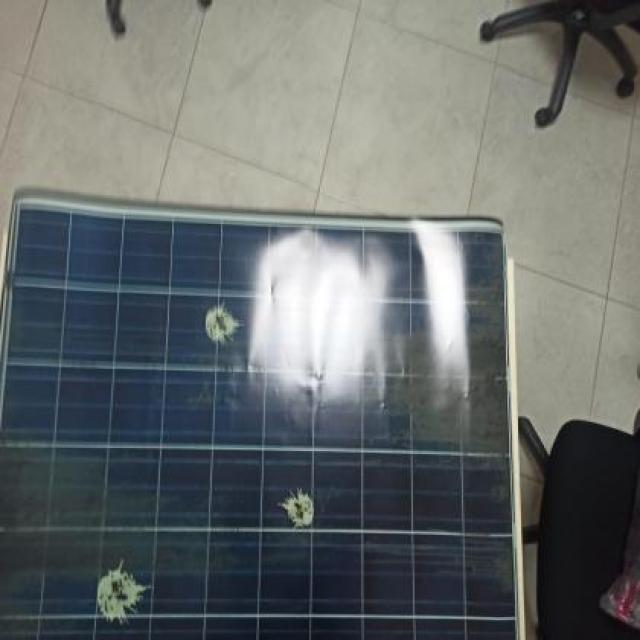soiled: (4, 192, 522, 640)
